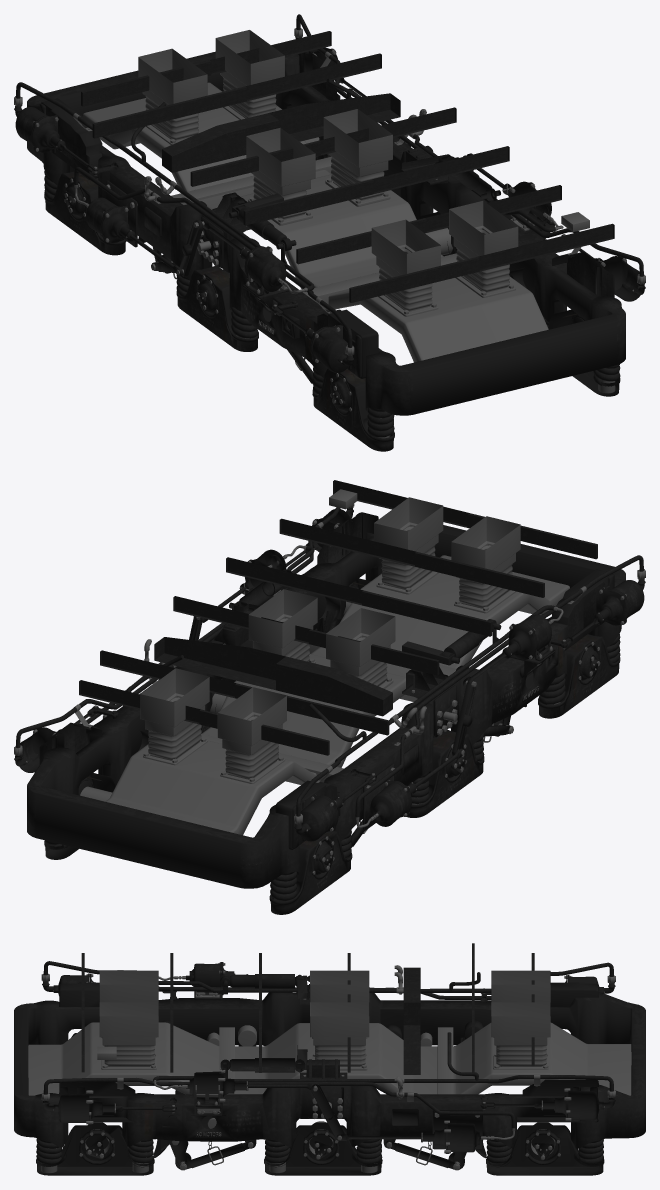
The model's file is truck_rear.glb.
3 views of the same model, one above another, from view 1: azimuth 30°, elevation 25°; view 2: azimuth 150°, elevation 25°; view 3: azimuth 270°, elevation 25° (orthographic). The views are drawn at different scales.
Visible parts, largest first — view 1: Truck_Rear; view 2: Truck_Rear; view 3: Truck_Rear.
Part boxes in pixels (<box>): Truck_Rear: <box>14,14,645,451</box>; Truck_Rear: <box>14,480,645,914</box>; Truck_Rear: <box>14,943,645,1175</box>.
Bounding box in the file's own units: 2.65 × 1.34 × 5.45.
3 materials, 2 textured.
